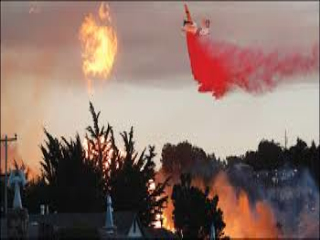fire: (73, 13, 131, 91)
